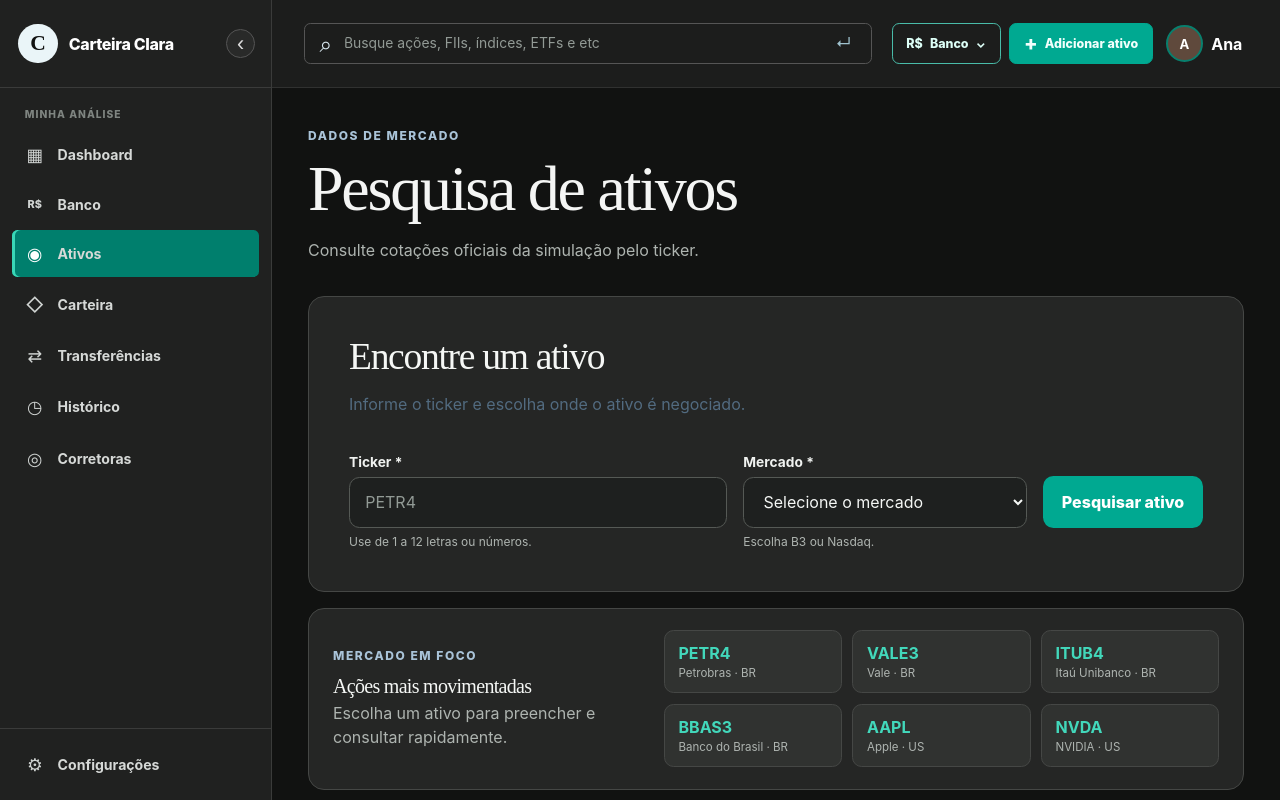
assets private route › exige ticker e mercado antes de pesquisar
The image size is (1280, 800).
Check: the heading "Pesquisa de ativos" is shown, box [308,153,737,224]
Click the button "Pesquisar ativo" at (1123, 502), box [1043,476,1203,528]
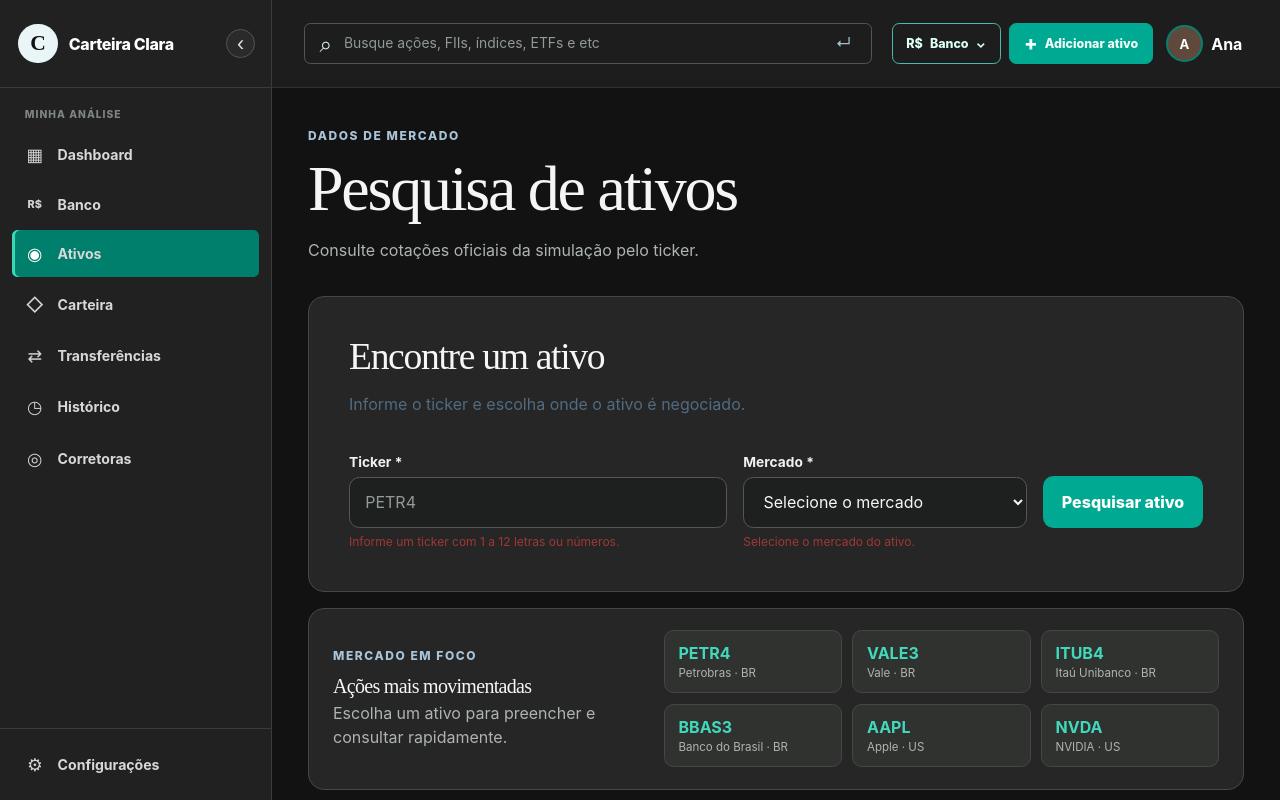
Check: the text "Informe um ticker com 1 a 12 letras ou números." is shown, box [349,534,619,549]
Check: the text "Selecione o mercado do ativo." is shown, box [743,534,915,549]
